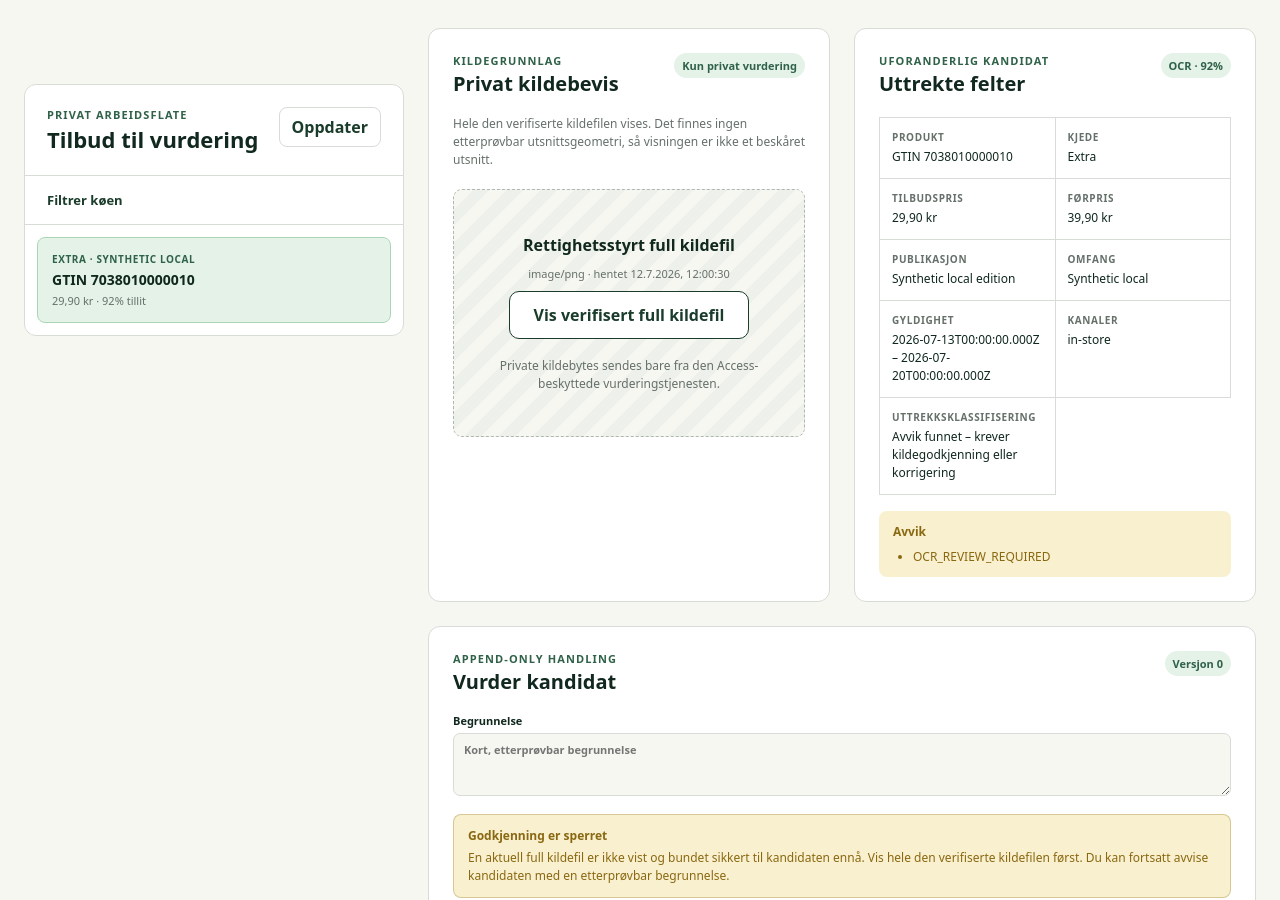
Test: ReviewWorkspace › refreshes the queue after a stale optimistic write
The image size is (1280, 900).
Expected: the heading "Vurder kandidat" is shown, [453,669,617,695]
Type "Avvises etter kontroll." into the text box labelled "Begrunnelse" at (842, 764), box [453,733,1231,796]
(page scrolled)
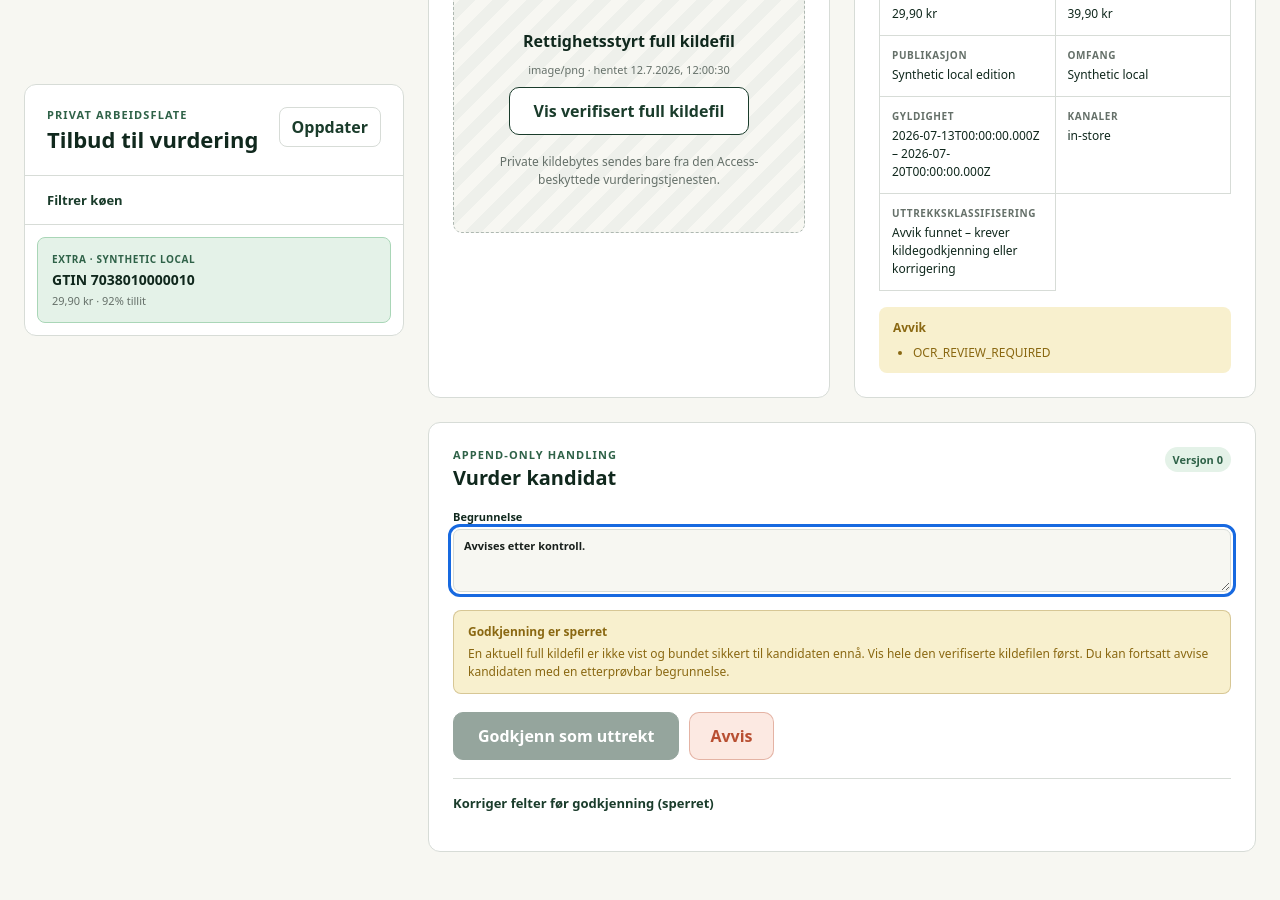
Click the button "Avvis" at (732, 736), box [690,712,774,760]
(page scrolled)
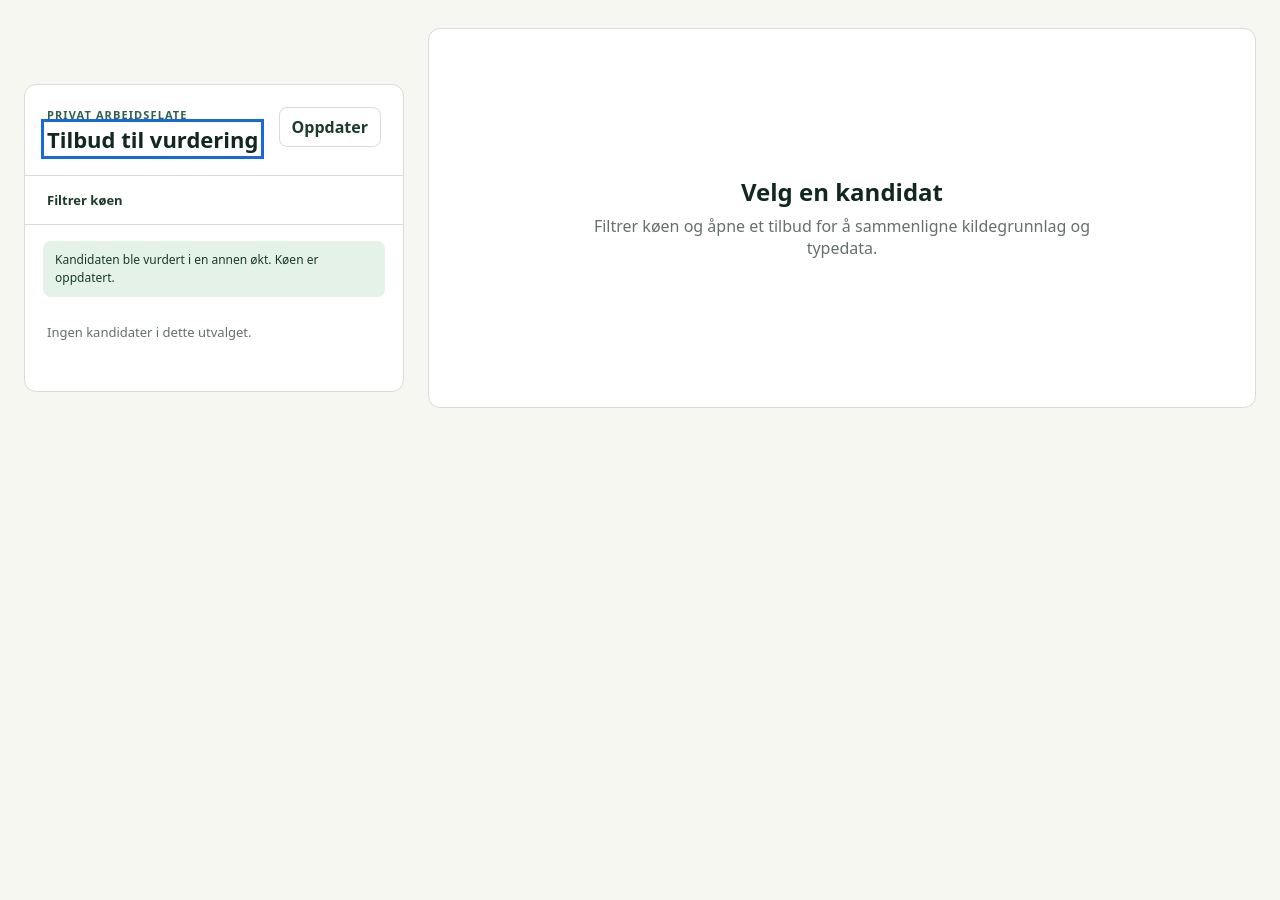
Expected: the text "Kandidaten ble vurdert i en annen økt. Køen er oppdatert." is shown, [43,241,385,297]
Expected: the text "Ingen kandidater i dette utvalget." is shown, [47,323,252,341]
Expected: the message shows "annen økt", [55,251,318,286]
